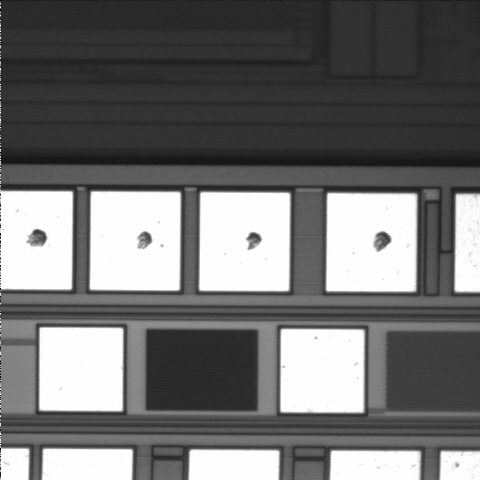pad: (199, 192, 290, 291), (326, 193, 417, 292), (90, 192, 180, 290), (39, 328, 123, 411), (281, 329, 364, 413)
